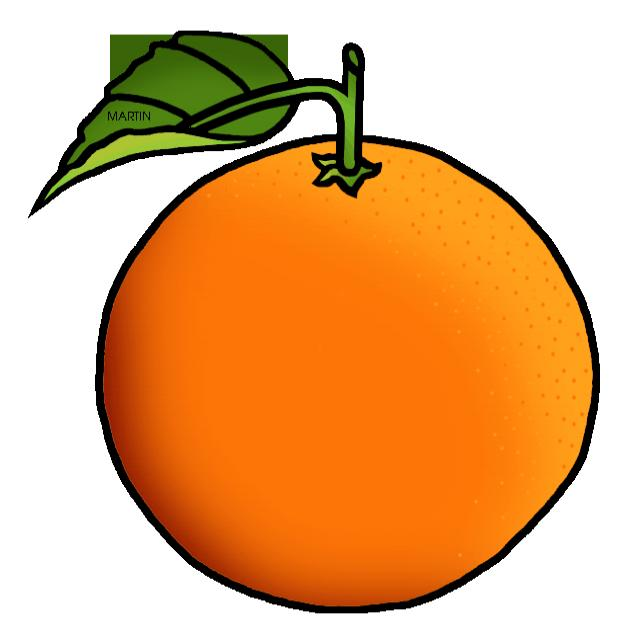orange: (27, 25, 605, 618)
